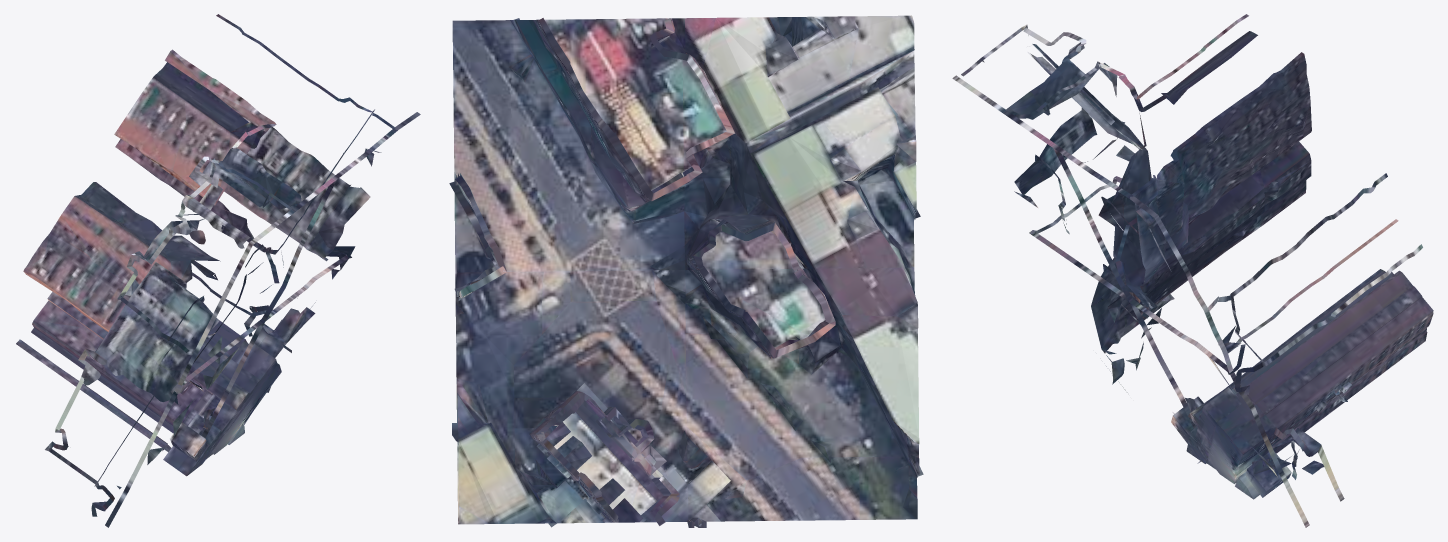
3 views of the same model, side by side, from view 1: azimuth 30°, elevation 25°; view 2: azimuth 150°, elevation 25°; view 3: azimuth 270°, elevation 25° (orthographic). The views are drawn at different scales.
Size of the model in its own units: 83.6 by 88.3 by 86.31.
Materials: 2 (2 with a texture image).
